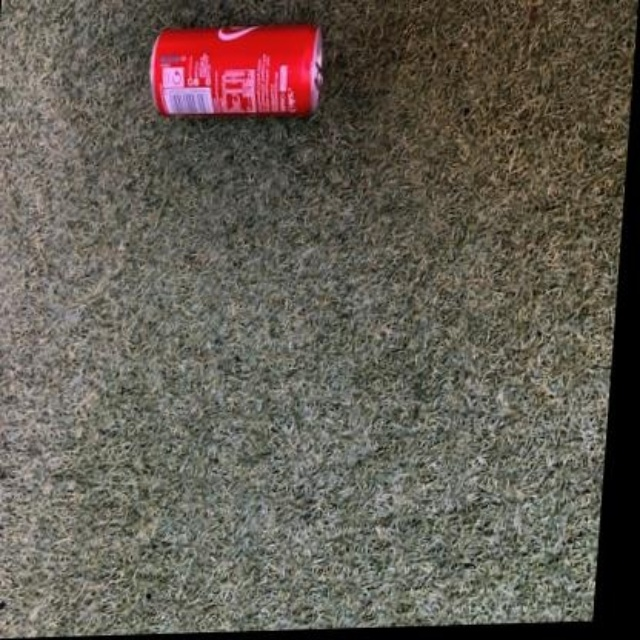trash: (151, 25, 320, 115)
